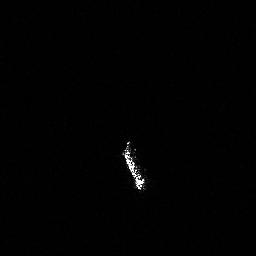ship: (117, 139, 151, 192)
